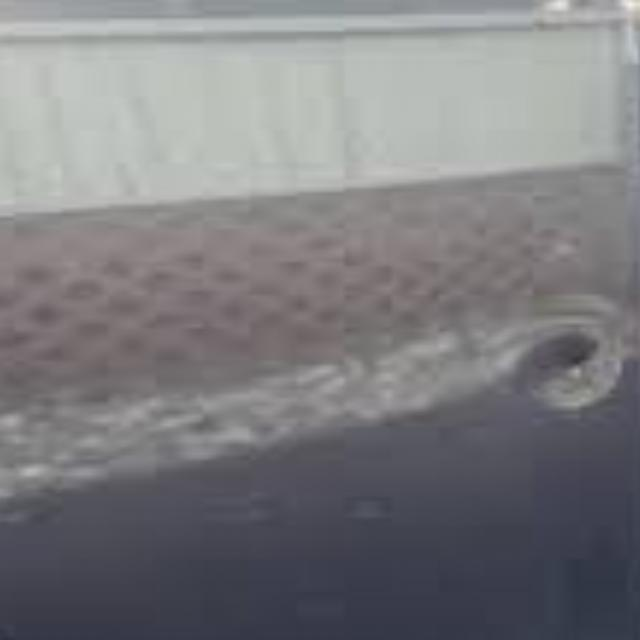dents: (471, 307, 640, 424)
